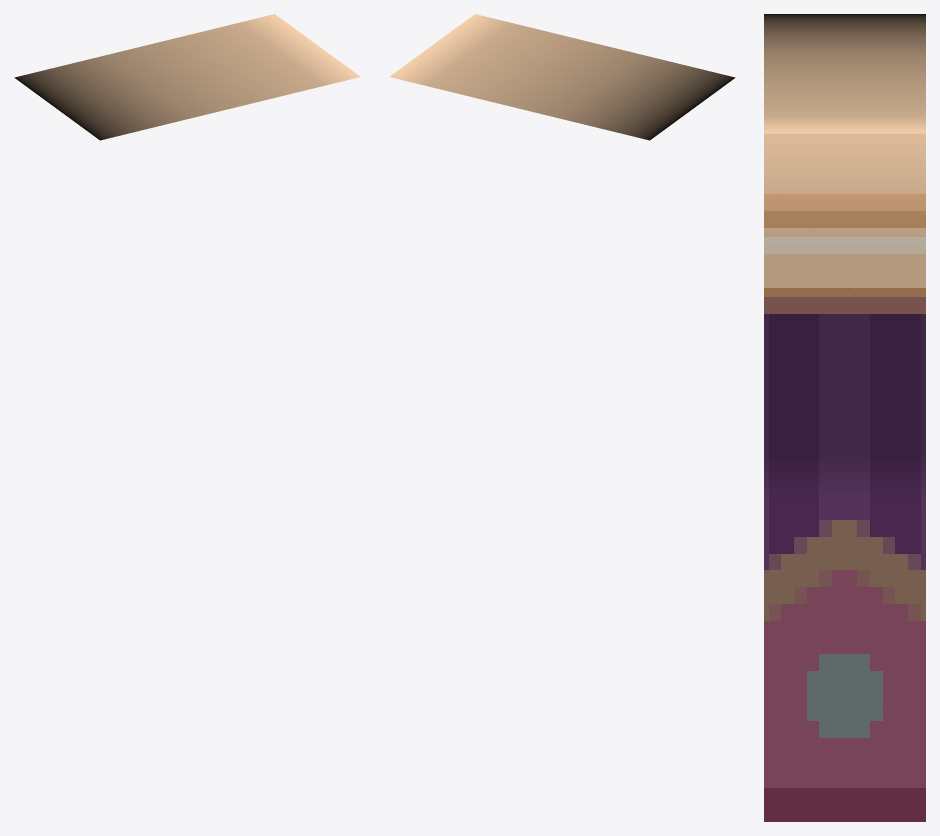
3 views of the same model, side by side, from view 1: azimuth 30°, elevation 25°; view 2: azimuth 150°, elevation 25°; view 3: azimuth 270°, elevation 25° (orthographic). The views are drawn at different scales.
Size of the model in its own units: 1.75 by 4.75 by 1.
Materials: 3 (3 with a texture image).
